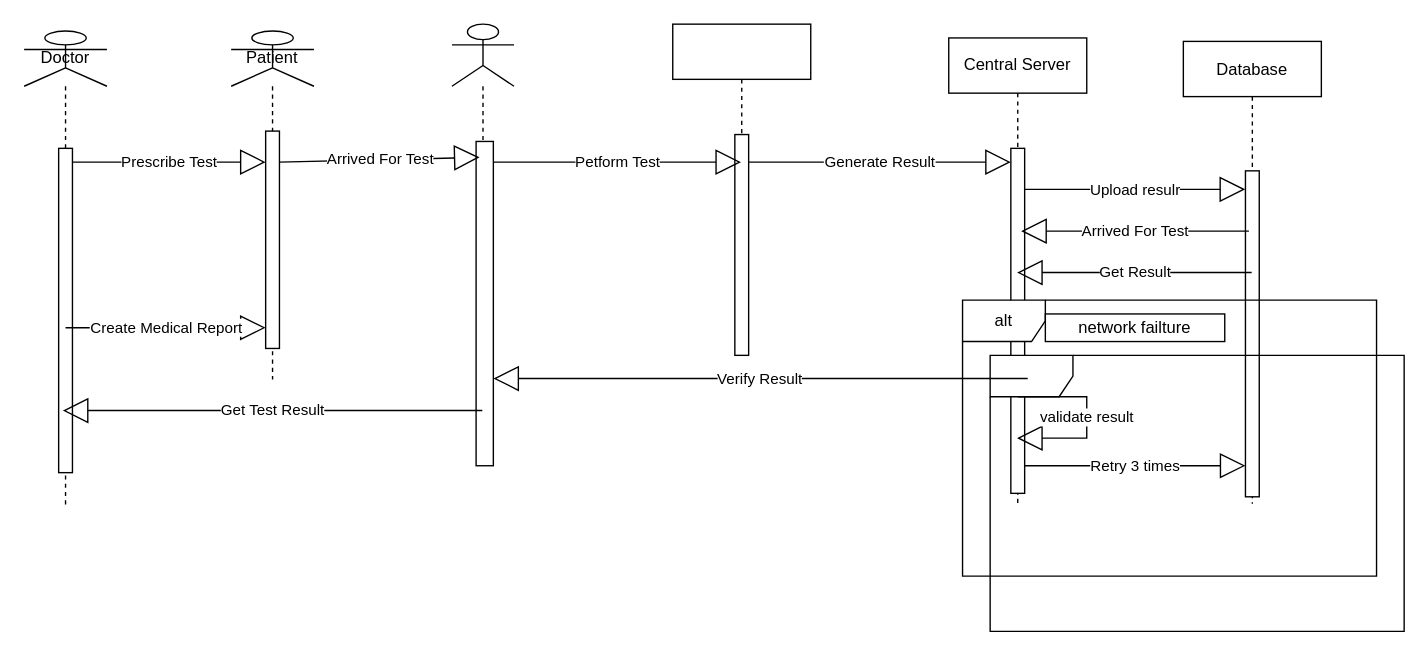
Some shapes in this 1428 by 656 pixel diagram are drawn without their labels. Each missing label, with the box of its shape:
Lab Equipment: (671, 23, 811, 355)
Lab Technician: (451, 23, 514, 466)
loop: (989, 354, 1404, 631)
